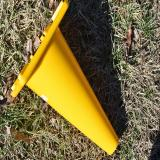cone: (10, 0, 120, 156)
